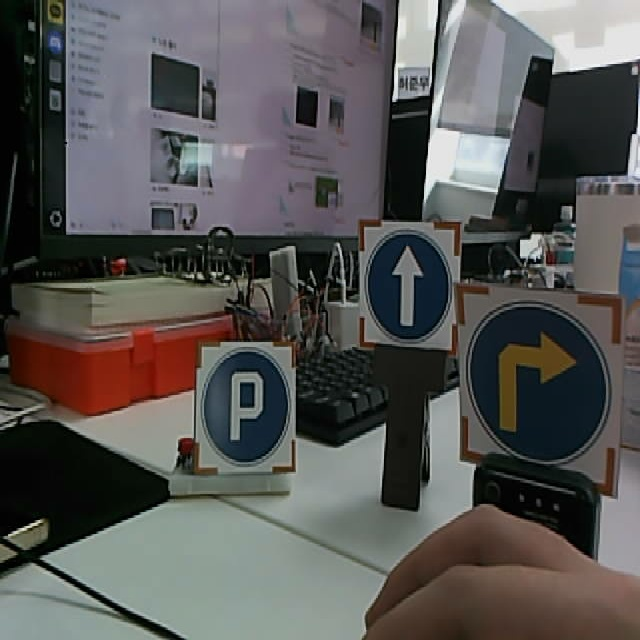parking: (195, 340, 296, 473)
right: (452, 282, 622, 499)
straight: (359, 218, 461, 355)
